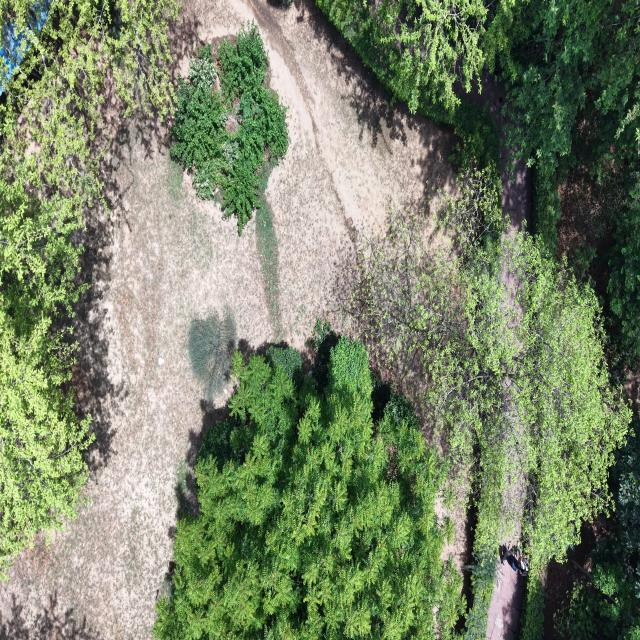DRY_AREA: (0, 0, 454, 639), (235, 0, 454, 346), (454, 69, 531, 234), (454, 70, 531, 235), (454, 70, 531, 234), (455, 70, 531, 231), (458, 70, 531, 234), (541, 519, 610, 639), (483, 74, 531, 234), (556, 166, 613, 277), (435, 484, 474, 602), (495, 438, 526, 551), (441, 508, 475, 601), (487, 560, 526, 639), (487, 562, 524, 639), (501, 144, 531, 231), (625, 367, 639, 413)
VEGETATION_TREE: (155, 0, 639, 639), (318, 0, 639, 637), (318, 0, 639, 560), (318, 0, 639, 553), (318, 0, 639, 549), (318, 0, 639, 368), (356, 172, 630, 574), (0, 0, 178, 577), (154, 332, 461, 639), (318, 0, 639, 204), (497, 0, 639, 377), (496, 0, 639, 367), (512, 237, 631, 561), (0, 0, 178, 211), (0, 178, 90, 574), (317, 0, 503, 175), (317, 0, 513, 166), (353, 170, 502, 375), (493, 0, 639, 189), (493, 0, 639, 178), (171, 24, 288, 233), (318, 0, 488, 113), (552, 161, 639, 376), (555, 432, 639, 639), (593, 183, 639, 365), (555, 549, 639, 639), (614, 419, 639, 599), (188, 309, 236, 401), (256, 160, 280, 334), (464, 549, 496, 639), (521, 572, 545, 639), (266, 346, 302, 383)
